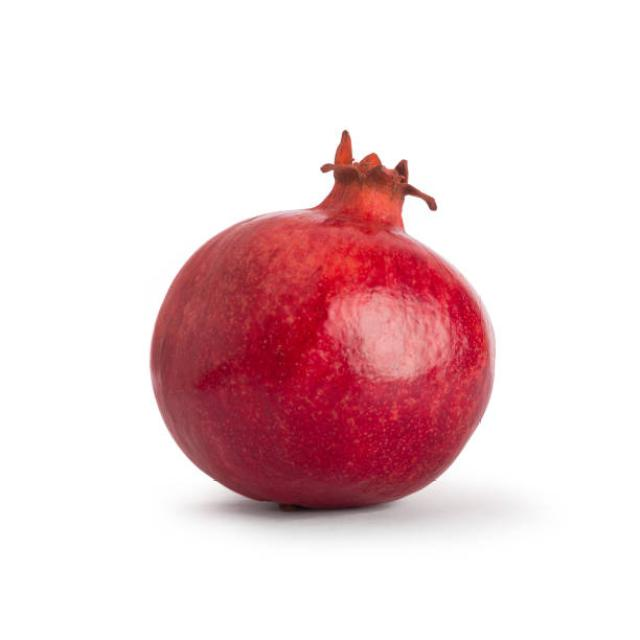Pomegranate: (148, 129, 499, 514)
